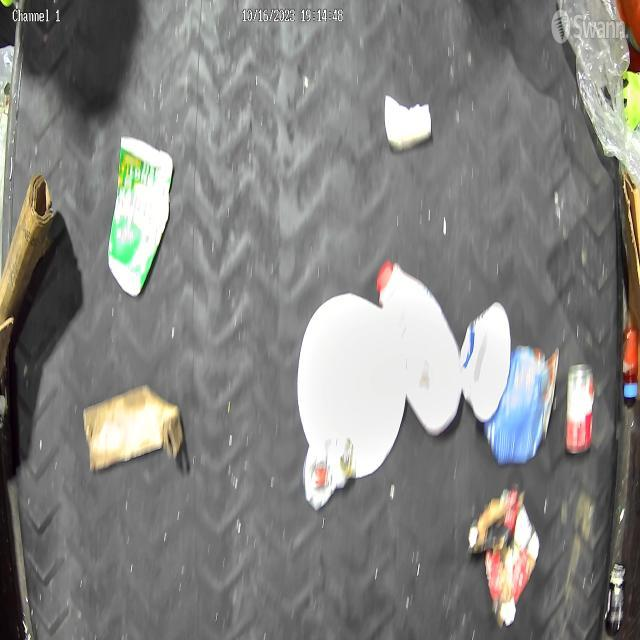can: (562, 359, 597, 464)
milk_jug: (372, 260, 464, 437)
